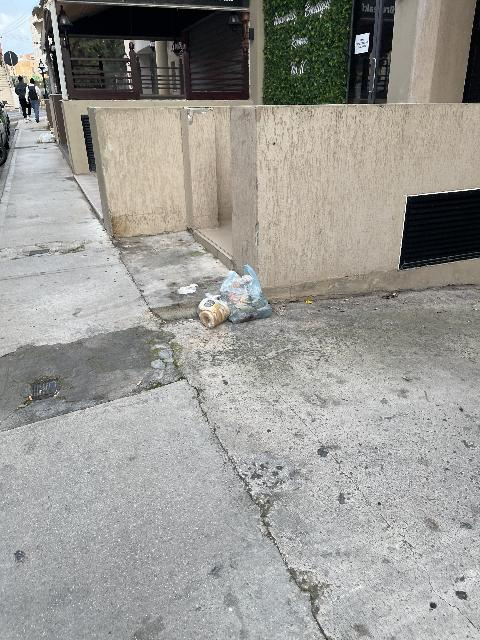Organic -White-: (220, 265, 271, 324), (198, 295, 231, 328)
